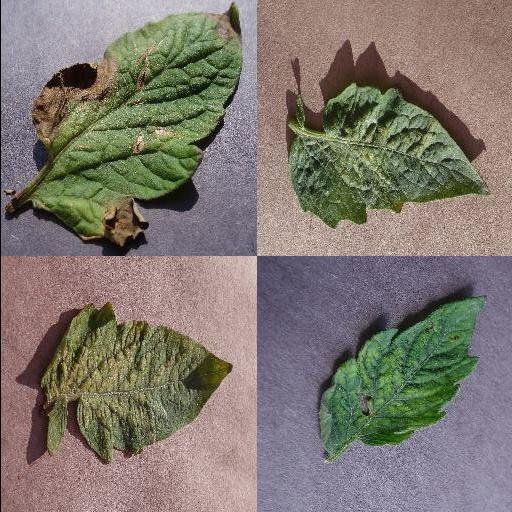Late Blight: (30, 3, 246, 247)
Mosaic Virus: (317, 295, 491, 455)
Spider Mites: (38, 301, 232, 467), (287, 84, 491, 228)
